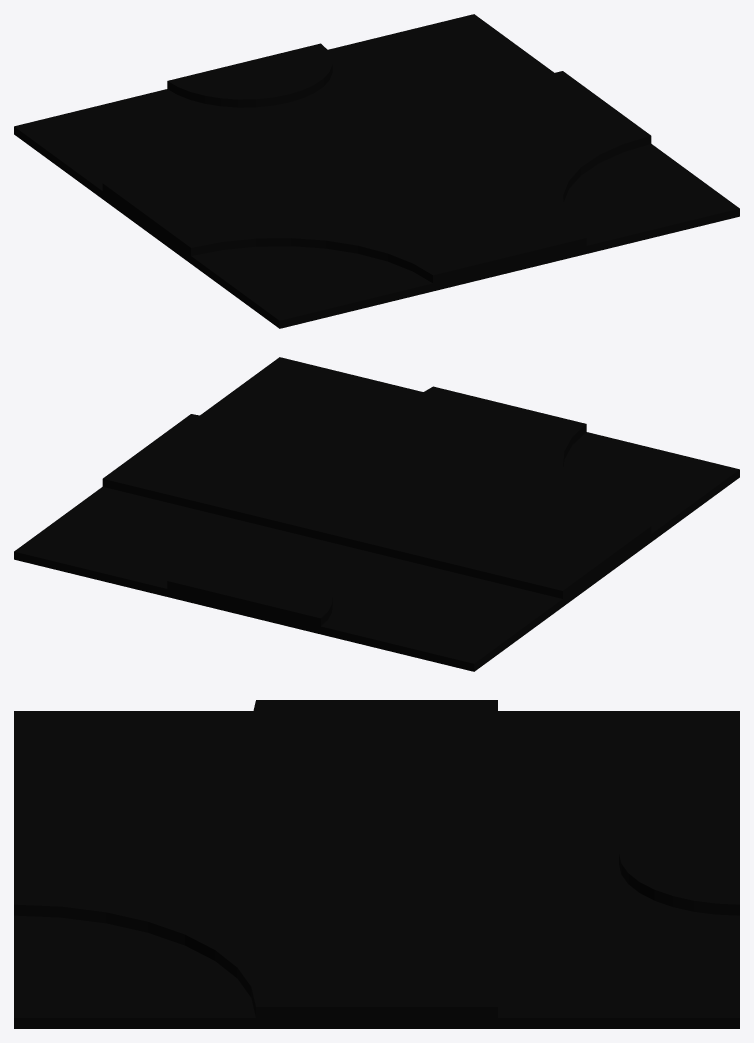
3 views of the same model, one above another, from view 1: azimuth 30°, elevation 25°; view 2: azimuth 150°, elevation 25°; view 3: azimuth 270°, elevation 25° (orthographic). The views are drawn at different scales.
Parts seen in each view (by area): view 1: node_id4; view 2: node_id4; view 3: node_id4.
Part boxes in pixels (x1,y1,x2,y2): node_id4: (14, 14, 739, 328); node_id4: (14, 357, 739, 671); node_id4: (14, 700, 739, 1028).
Size of the model in its own units: 0.512 by 0.0171 by 0.512.
Materials: 1 (1 with a texture image).
